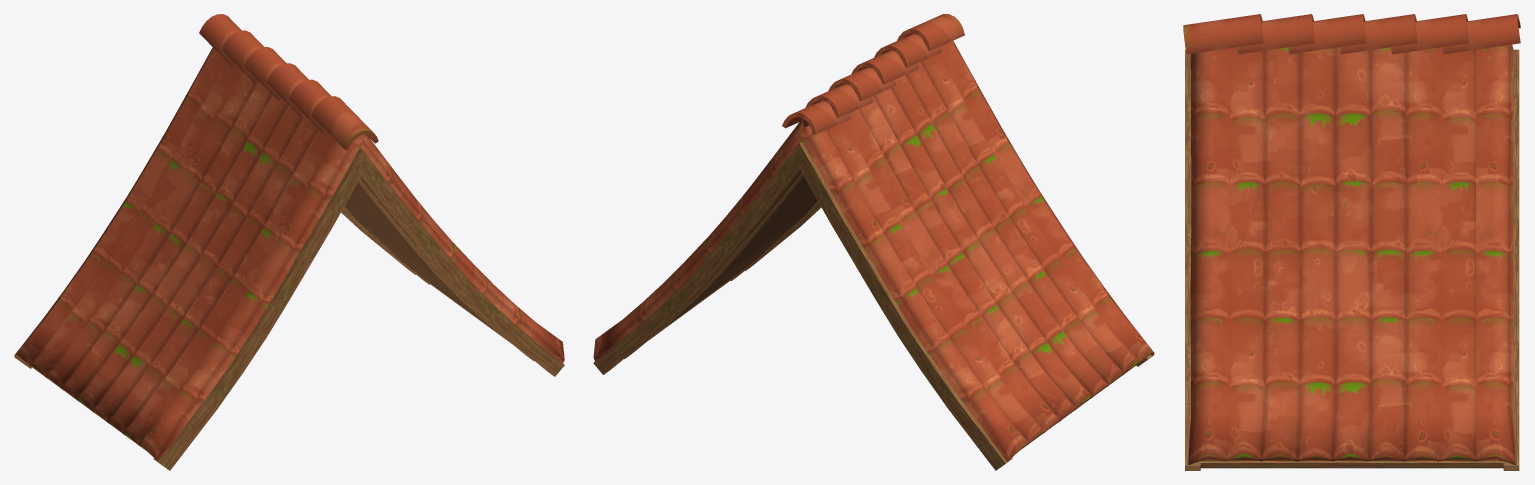
The model's file is Roof_RoundTiles_6x4.gltf.
3 renders of one model, left to right at view 1: azimuth 30°, elevation 25°; view 2: azimuth 150°, elevation 25°; view 3: azimuth 270°, elevation 25°, orthographic. The views are drawn at different scales.
Visible parts, largest first — view 1: Roof_RoundTiles_6x4; view 2: Roof_RoundTiles_6x4; view 3: Roof_RoundTiles_6x4.
Boxes of the visible parts, left/top/right/bottom form: Roof_RoundTiles_6x4: left=14, top=14, right=564, bottom=470; Roof_RoundTiles_6x4: left=593, top=14, right=1154, bottom=470; Roof_RoundTiles_6x4: left=1183, top=14, right=1520, bottom=470.
Size of the model in its own units: 8.25 by 5.67 by 4.99.
2 materials, 2 textured.
